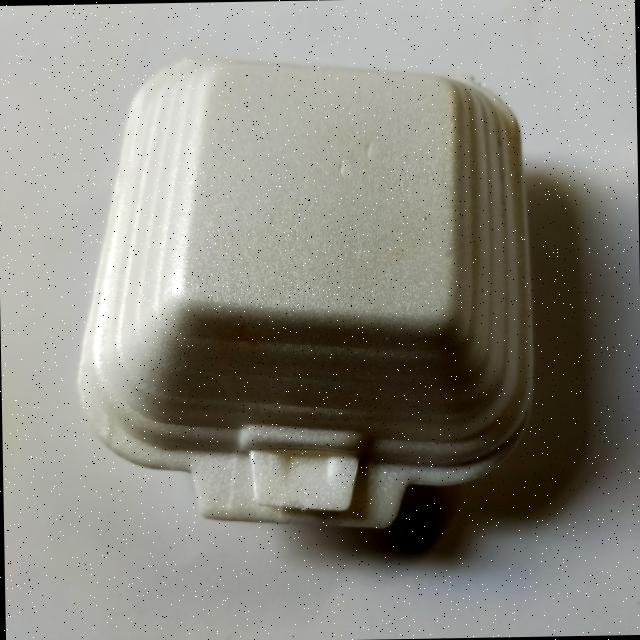styrofoam: (69, 49, 539, 538)
